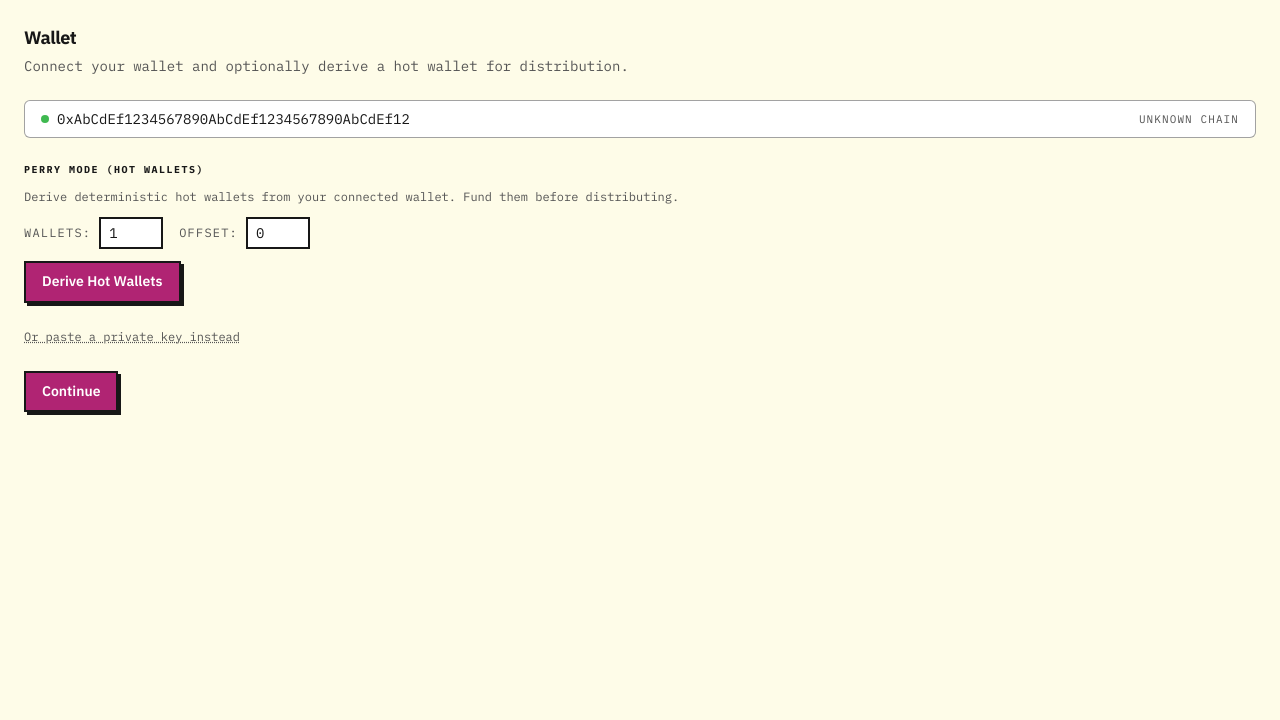
WalletStep › private-key escape hatch › reveals the paste-key editor when the toggle is clicked
Expected: the field labelled "cold wallet private key" is not shown
Click the button "Or paste a private key instead": (132, 336) x1=24 y1=328 x2=240 y2=344
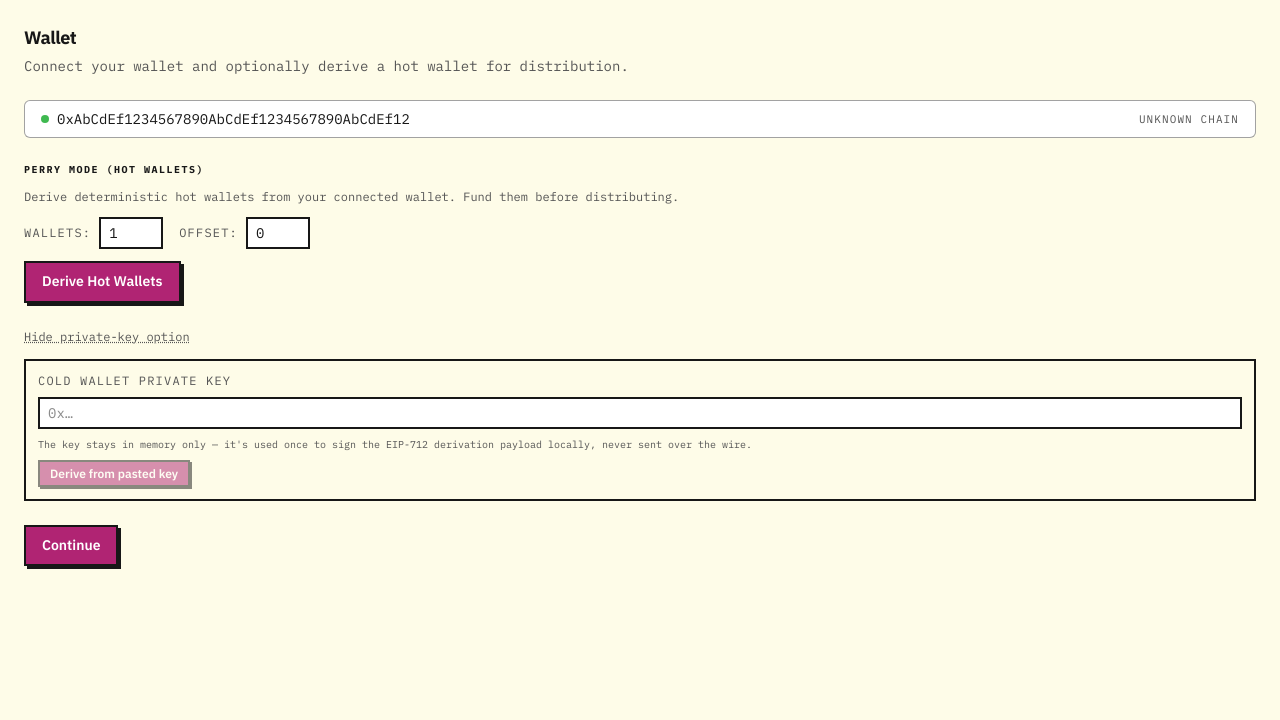
Now the password field labelled "Cold wallet private key" is shown, box x1=38 y1=396 x2=1242 y2=428
